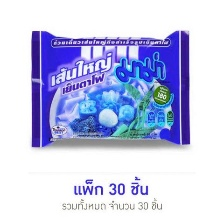snack: (24, 23, 197, 155)
